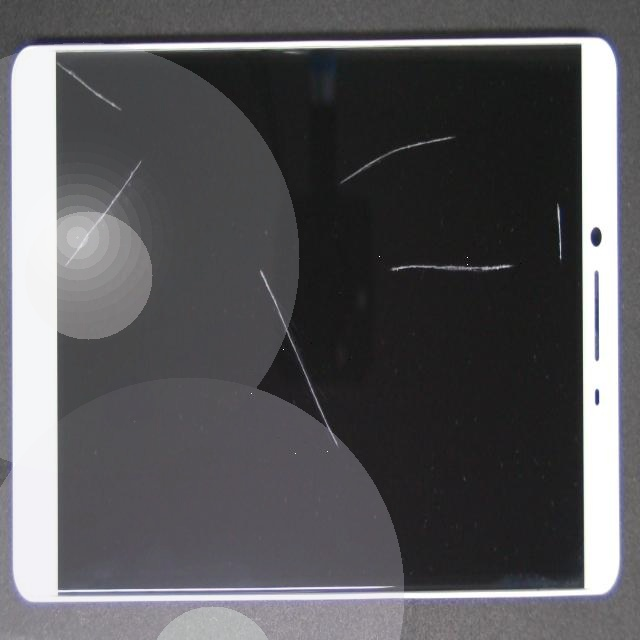scratch: (62, 49, 420, 536), (187, 146, 571, 438), (33, 145, 99, 435)
